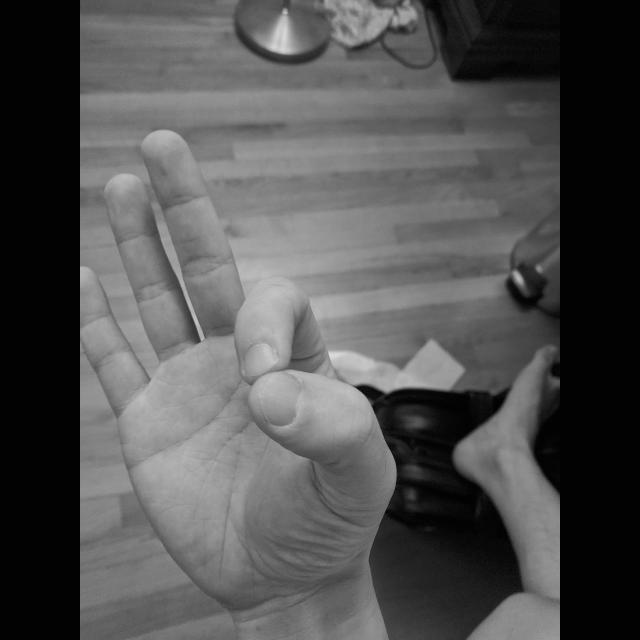F: (80, 126, 400, 620)
